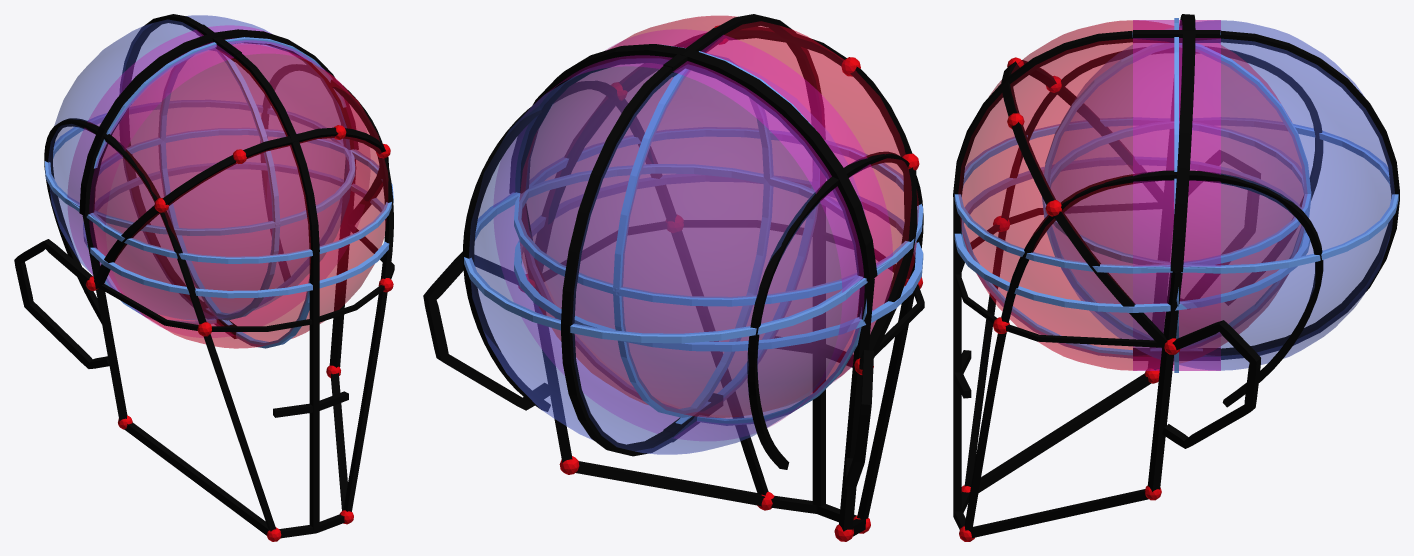
The model's file is 头部-基础头进阶.glb.
3 views of the same model, side by side, from view 1: azimuth 30°, elevation 25°; view 2: azimuth 150°, elevation 25°; view 3: azimuth 270°, elevation 25° (orthographic). The views are drawn at different scales.
Visible parts, largest first — view 1: Sphere, Sphere.001, Plane.008, Sphere.018, Sphere.013, Sphere.003, Sphere.014, Sphere.004, Sphere.015, Plane.001, Sphere.012, Plane.003 (+13 smaller); view 2: Sphere.001, Sphere, Sphere.018, Plane.008, Sphere.013, Sphere.004, Sphere.015, Sphere.003, Sphere.012, Sphere.014, Sphere.011, Plane.006 (+13 smaller); view 3: Sphere.001, Sphere, Sphere.018, Plane.008, Sphere.003, Sphere.004, Sphere.014, Sphere.012, Sphere.015, Sphere.011, Plane, Sphere.013 (+13 smaller).
Boxes of the visible parts, x1,y1,x2,y2 form: Sphere: [93, 43, 388, 348]; Sphere.001: [48, 15, 351, 320]; Plane.008: [44, 64, 393, 531]; Sphere.018: [67, 25, 341, 327]; Sphere.013: [79, 29, 358, 216]; Sphere.003: [90, 128, 393, 263]; Sphere.014: [83, 162, 389, 298]; Sphere.004: [44, 100, 355, 235]; Sphere.015: [94, 127, 388, 288]; Plane.001: [309, 252, 319, 530]; Sphere.012: [119, 14, 202, 305]; Plane.003: [124, 373, 347, 535]; Sphere.001: [469, 59, 865, 454]; Sphere: [518, 15, 918, 417]; Sphere.018: [528, 29, 892, 427]; Plane.008: [463, 81, 923, 519]; Sphere.013: [509, 44, 877, 281]; Sphere.004: [464, 164, 862, 343]; Sphere.015: [535, 26, 917, 358]; Sphere.003: [514, 127, 923, 306]; Sphere.012: [561, 66, 672, 456]; Sphere.014: [514, 174, 923, 351]; Sphere.011: [613, 68, 819, 417]; Plane.006: [423, 251, 873, 482]; Sphere.001: [1047, 20, 1394, 370]; Sphere: [958, 20, 1306, 370]; Sphere.018: [1133, 20, 1220, 370]; Plane.008: [964, 47, 1323, 530]; Sphere.003: [954, 117, 1311, 273]; Sphere.004: [1042, 117, 1398, 273]; Sphere.014: [954, 157, 1310, 312]; Sphere.012: [1220, 30, 1399, 359]; Sphere.015: [1001, 60, 1167, 349]; Sphere.011: [961, 32, 1311, 358]; Plane: [1147, 129, 1182, 491]; Sphere.013: [1170, 14, 1195, 271].
Size of what is drawn, in the model's own units: 2.57 by 3.09 by 2.55.
